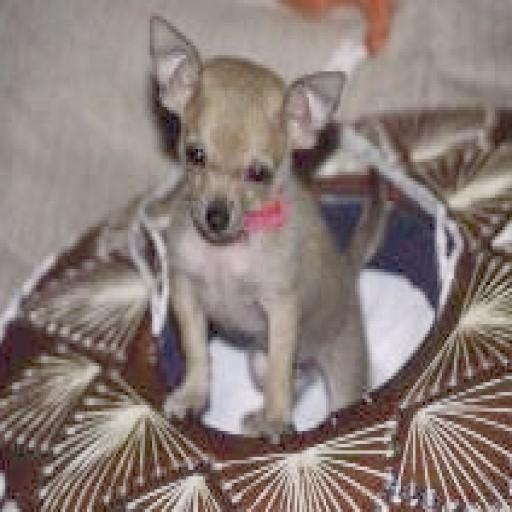dog_face: (142, 16, 352, 250)
